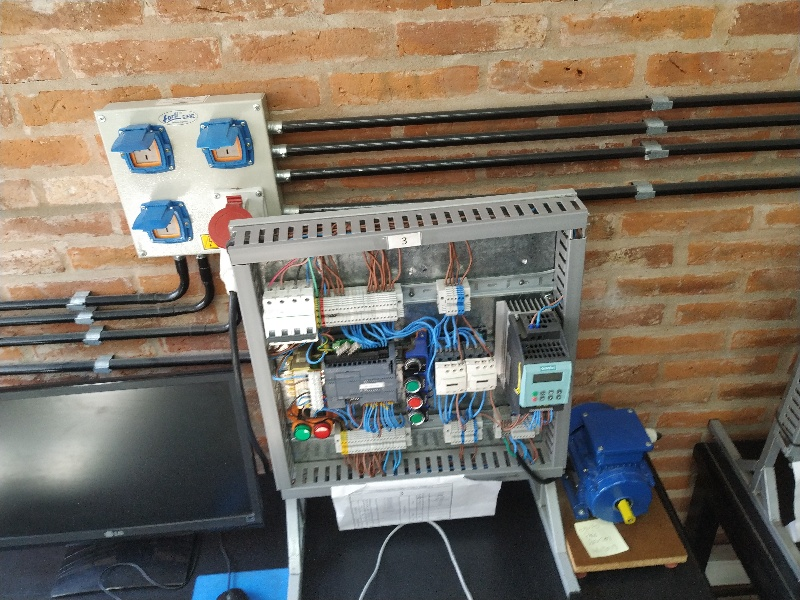Tablero 3: (257, 235, 578, 468)
